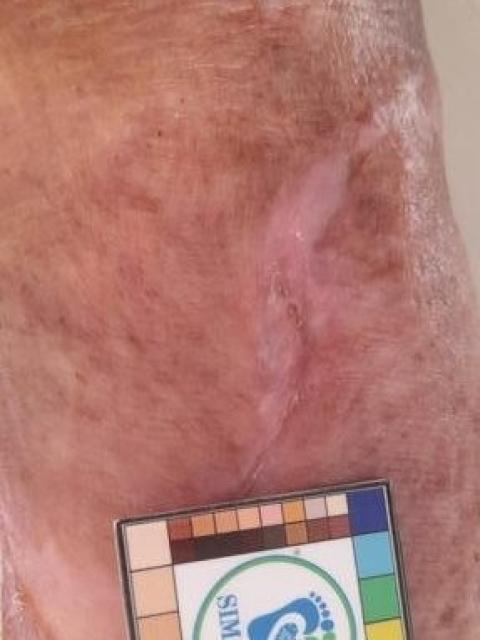wound: (258, 255, 348, 454)
